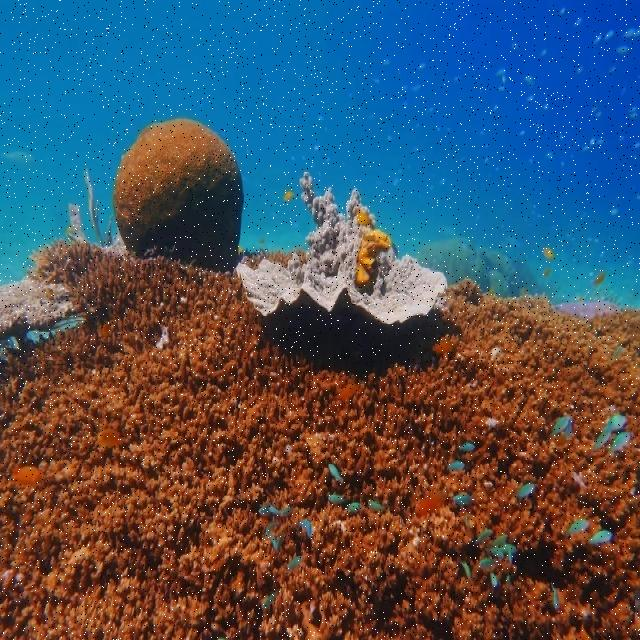reefs: (0, 239, 639, 639), (237, 175, 446, 324), (114, 119, 244, 268)
